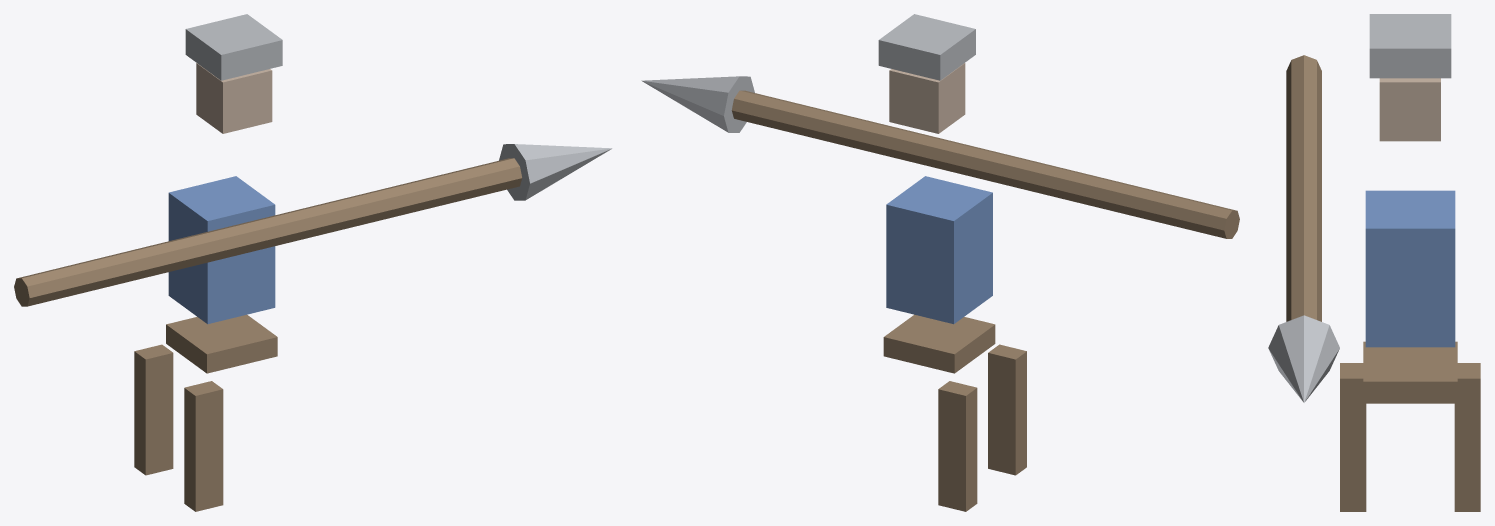
File: vanguard_pikeman.glb
3 renders of one model, left to right at view 1: azimuth 30°, elevation 25°; view 2: azimuth 150°, elevation 25°; view 3: azimuth 270°, elevation 25°, orthographic. The views are drawn at different scales.
Visible parts, largest first — view 1: vanguard_pikeman; view 2: vanguard_pikeman; view 3: vanguard_pikeman.
Part boxes in pixels (bbox=[...]): vanguard_pikeman: bbox=[14, 14, 612, 511]; vanguard_pikeman: bbox=[641, 14, 1239, 511]; vanguard_pikeman: bbox=[1268, 14, 1480, 511].
Size of the model in its own units: 48 by 34 by 13.
